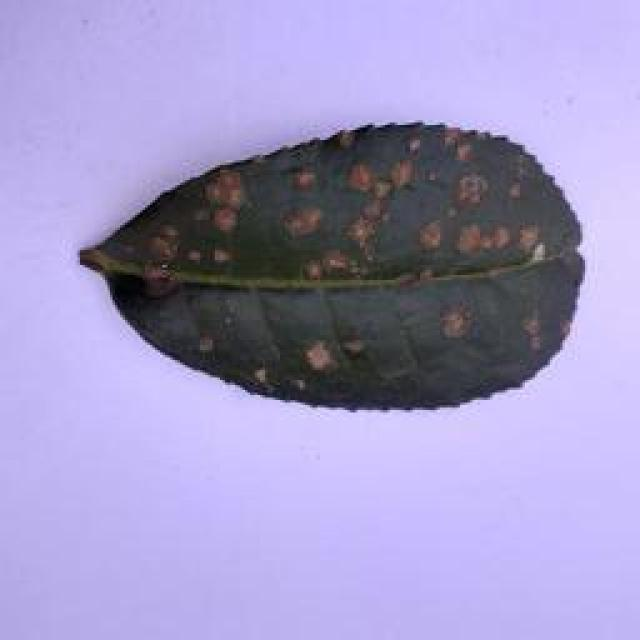Algal Leaf Spot: (71, 112, 586, 428)
